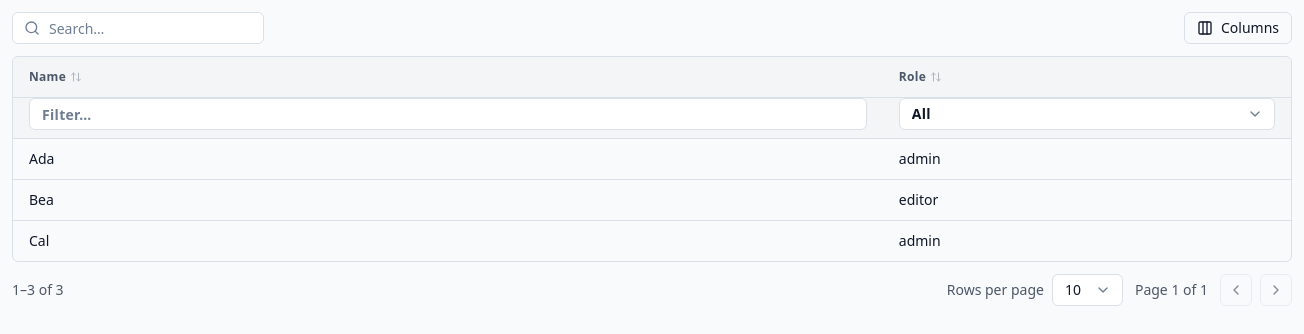
Test: DataTable › faceted filters › clear-all resets every filter chip
The image size is (1304, 334).
Step 1. Select "Admin" in the dropdown named "Filter Role" → (1087, 114), box [899,98,1275,130]
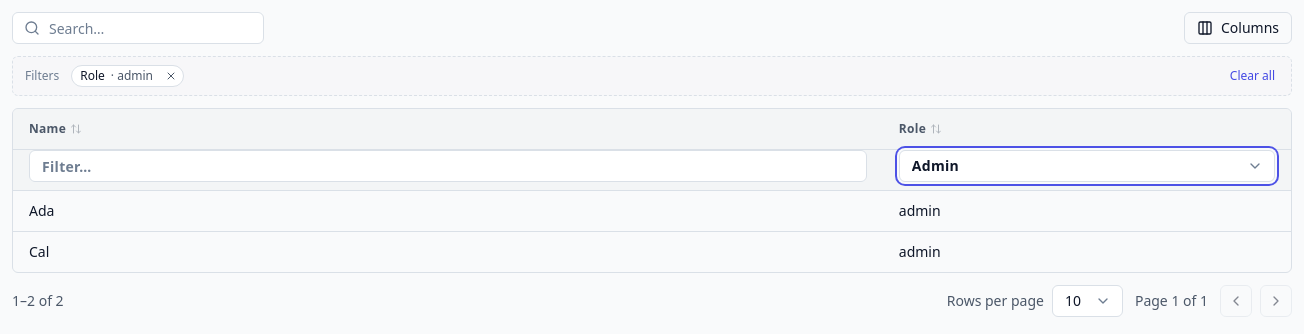
Expected: the text "Bea" is gone
Step 2. Click the button "Clear all" → (1252, 76), box [1222,66,1283,86]
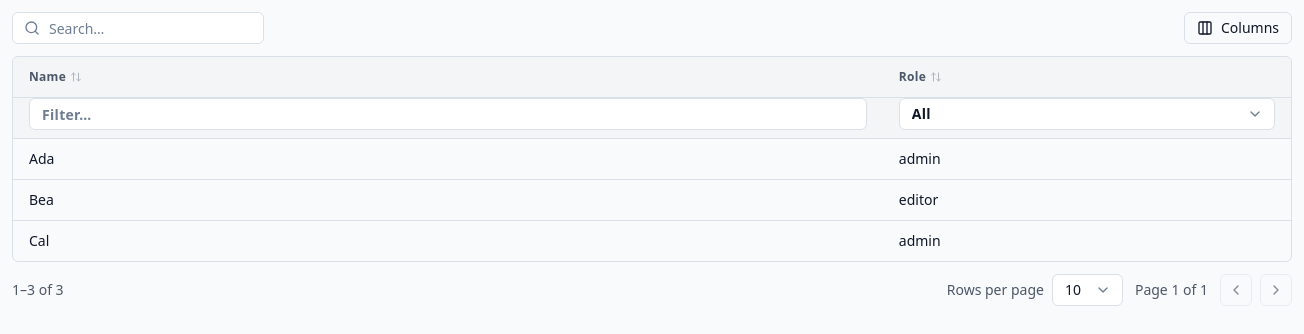
Expected: the text "Bea" is shown, [13,180,883,220]
